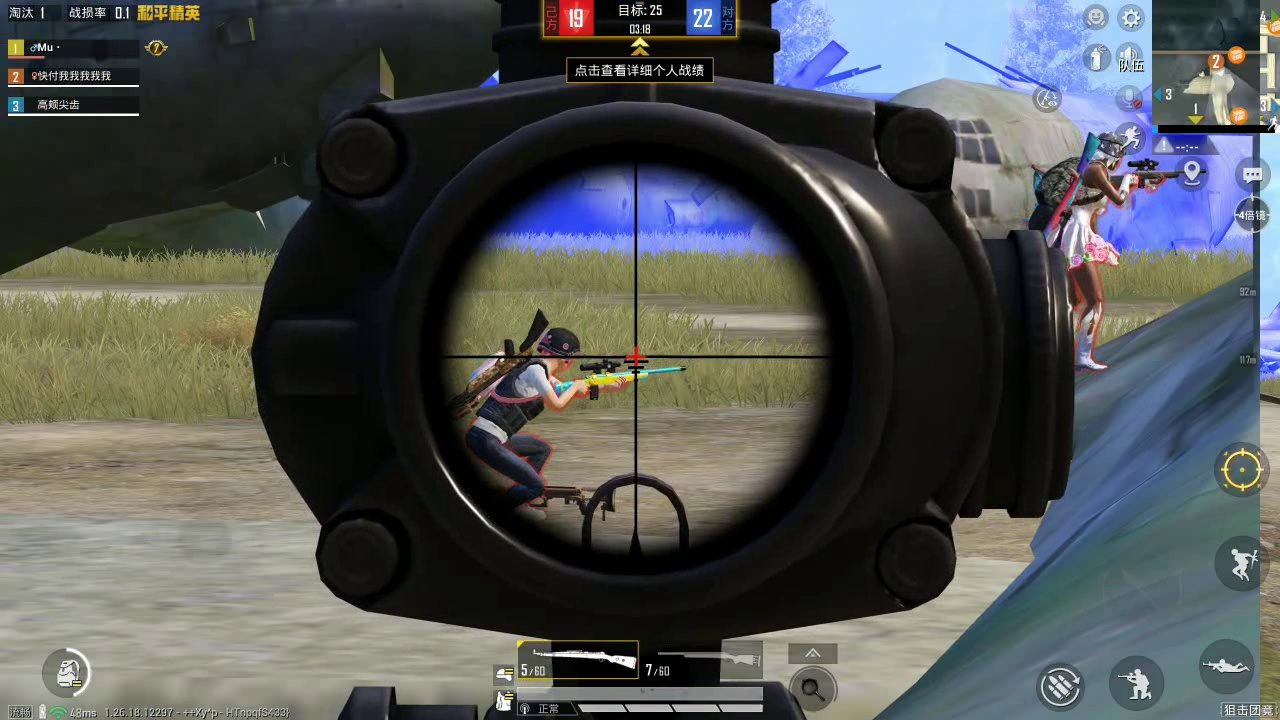enemy: (1035, 128, 1132, 375), (474, 324, 578, 522)
